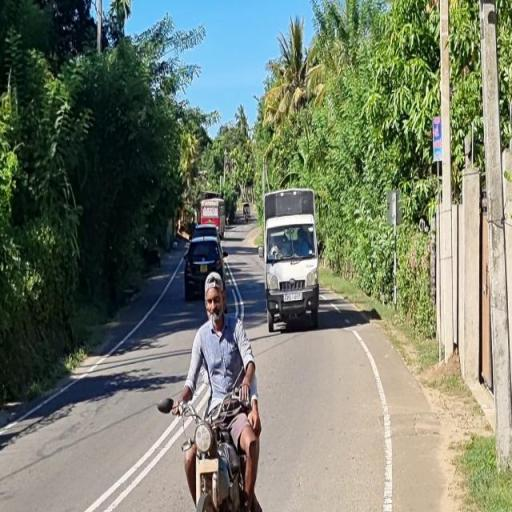double_white_line: (4, 260, 182, 448)
